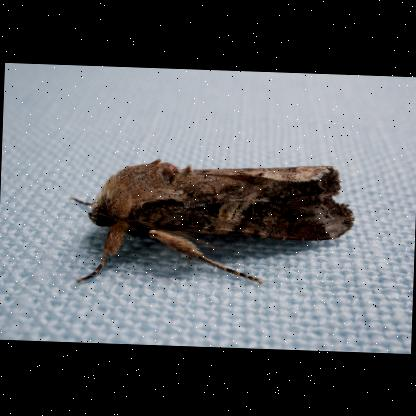Fall Armyworm Moth: (64, 151, 359, 295)
